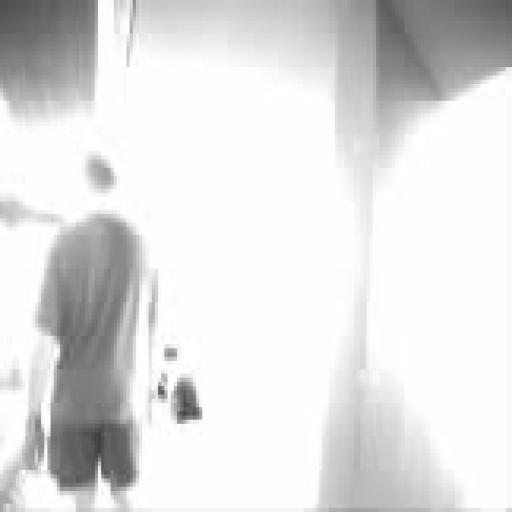human: (29, 156, 154, 511)
